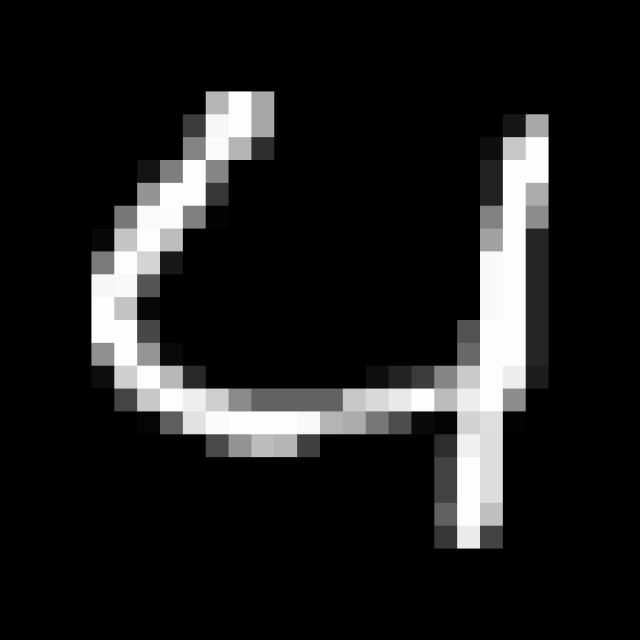four -4-: (73, 73, 571, 583)
